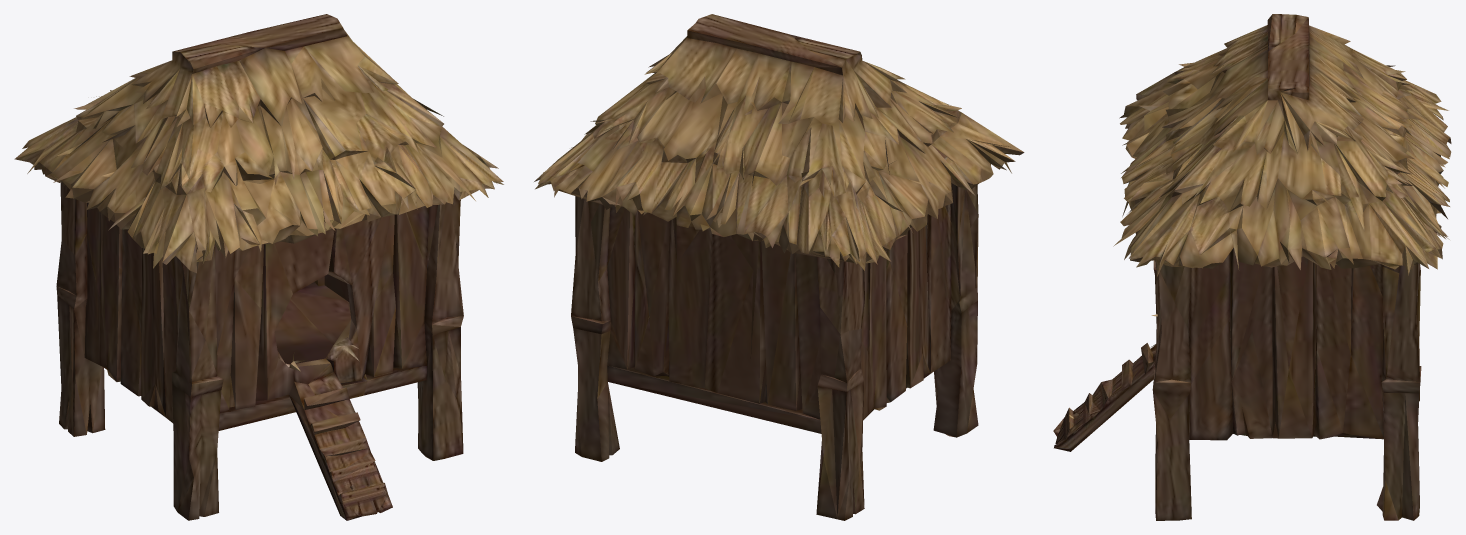
Rendered from chicken_coop_3d.glb.
3 renders of one model, left to right at view 1: azimuth 30°, elevation 25°; view 2: azimuth 150°, elevation 25°; view 3: azimuth 270°, elevation 25°, orthographic.
Visible parts, largest first — view 1: Mesh_0; view 2: Mesh_0; view 3: Mesh_0.
Part boxes in pixels (left/top/right/bottom): Mesh_0: left=14, top=14, right=503, bottom=520; Mesh_0: left=534, top=14, right=1024, bottom=520; Mesh_0: left=1053, top=14, right=1451, bottom=520.
Bounding box in the file's own units: 1.61 × 1.75 × 1.57.
1 material, 1 textured.
